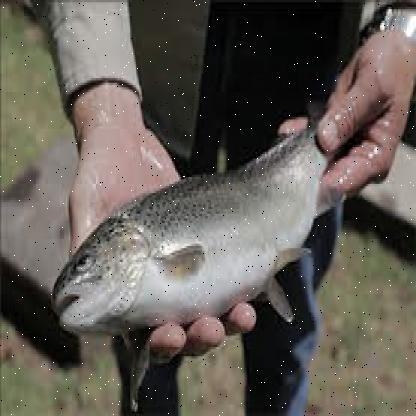fish: (48, 93, 349, 338)
